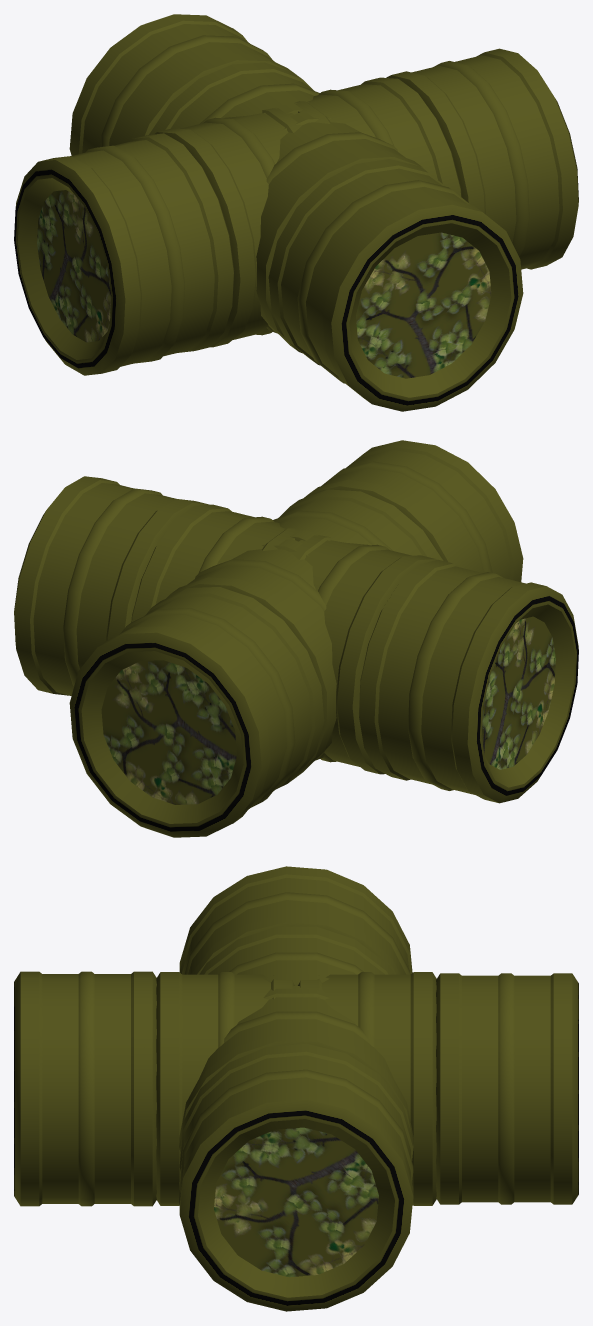
The model's file is pipe_connector_b.FBX.
3 views of the same model, one above another, from view 1: azimuth 30°, elevation 25°; view 2: azimuth 150°, elevation 25°; view 3: azimuth 270°, elevation 25° (orthographic). The views are drawn at different scales.
Visible parts, largest first — view 1: pipe_connector_b; view 2: pipe_connector_b; view 3: pipe_connector_b.
Boxes of the visible parts, <box> form: pipe_connector_b: <box>14,14,578,411</box>; pipe_connector_b: <box>14,440,578,837</box>; pipe_connector_b: <box>14,866,578,1311</box>.
Bounding box in the file's own units: 3.61 × 3.61 × 1.5.
